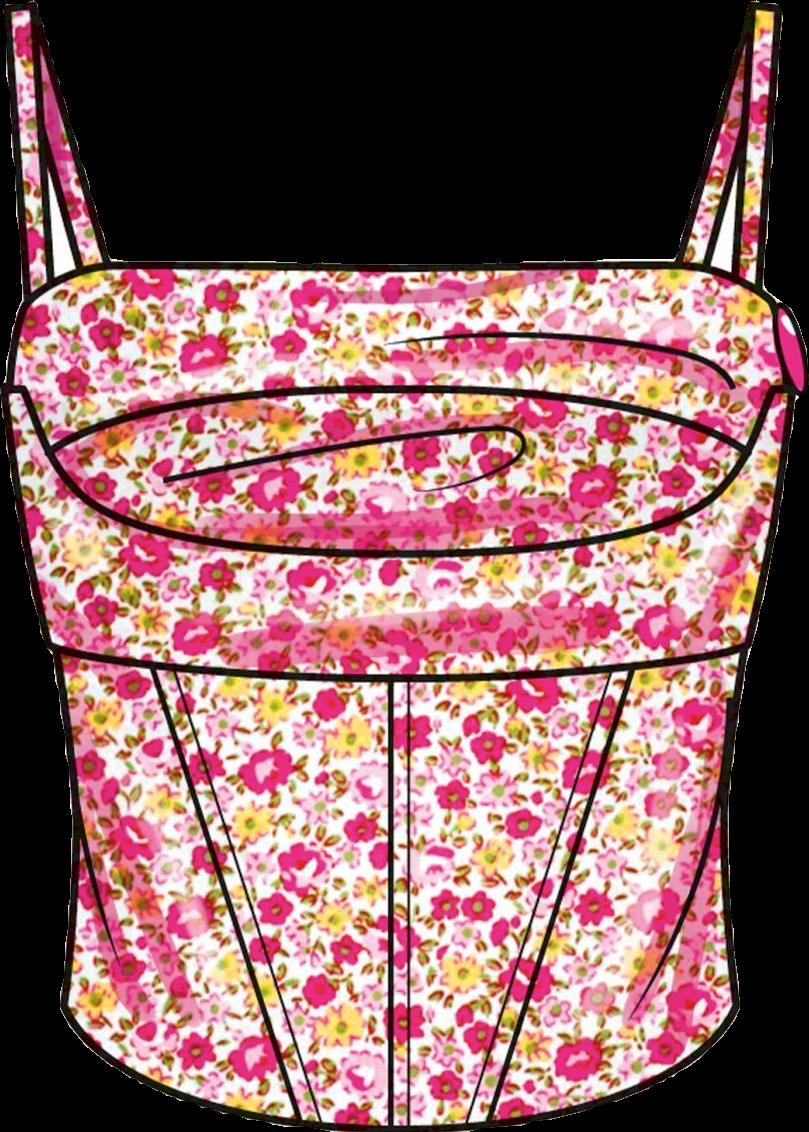Bodice: (0, 5, 806, 1127)
Neckline: (27, 4, 759, 292), (46, 639, 754, 687)
Waistline: (54, 1001, 746, 1130)
